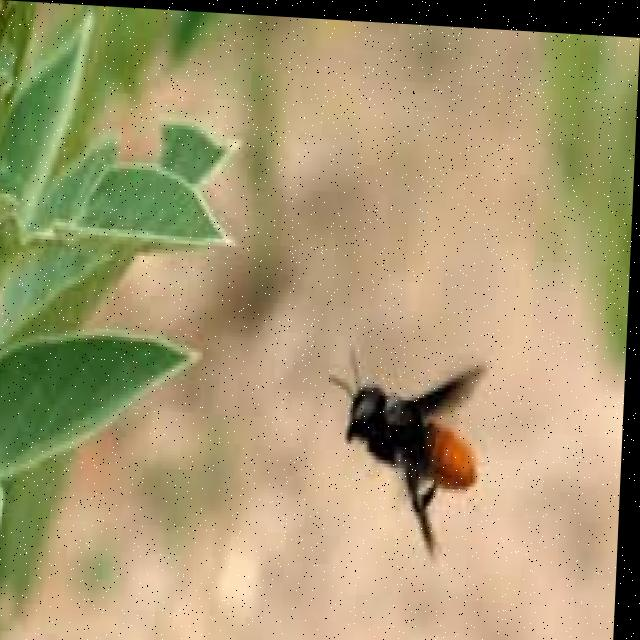Meliponula: (321, 335, 501, 563)
